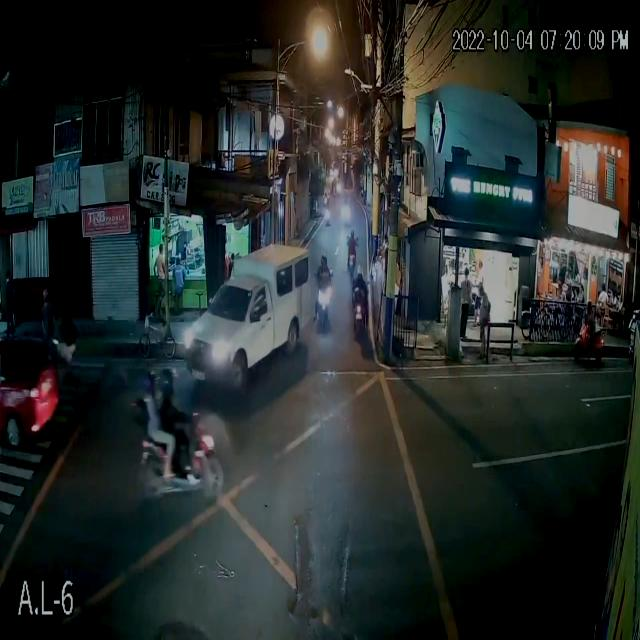Full-Faced: (158, 360, 178, 397), (146, 366, 160, 396), (349, 265, 367, 282), (319, 246, 329, 272), (349, 226, 356, 244)
